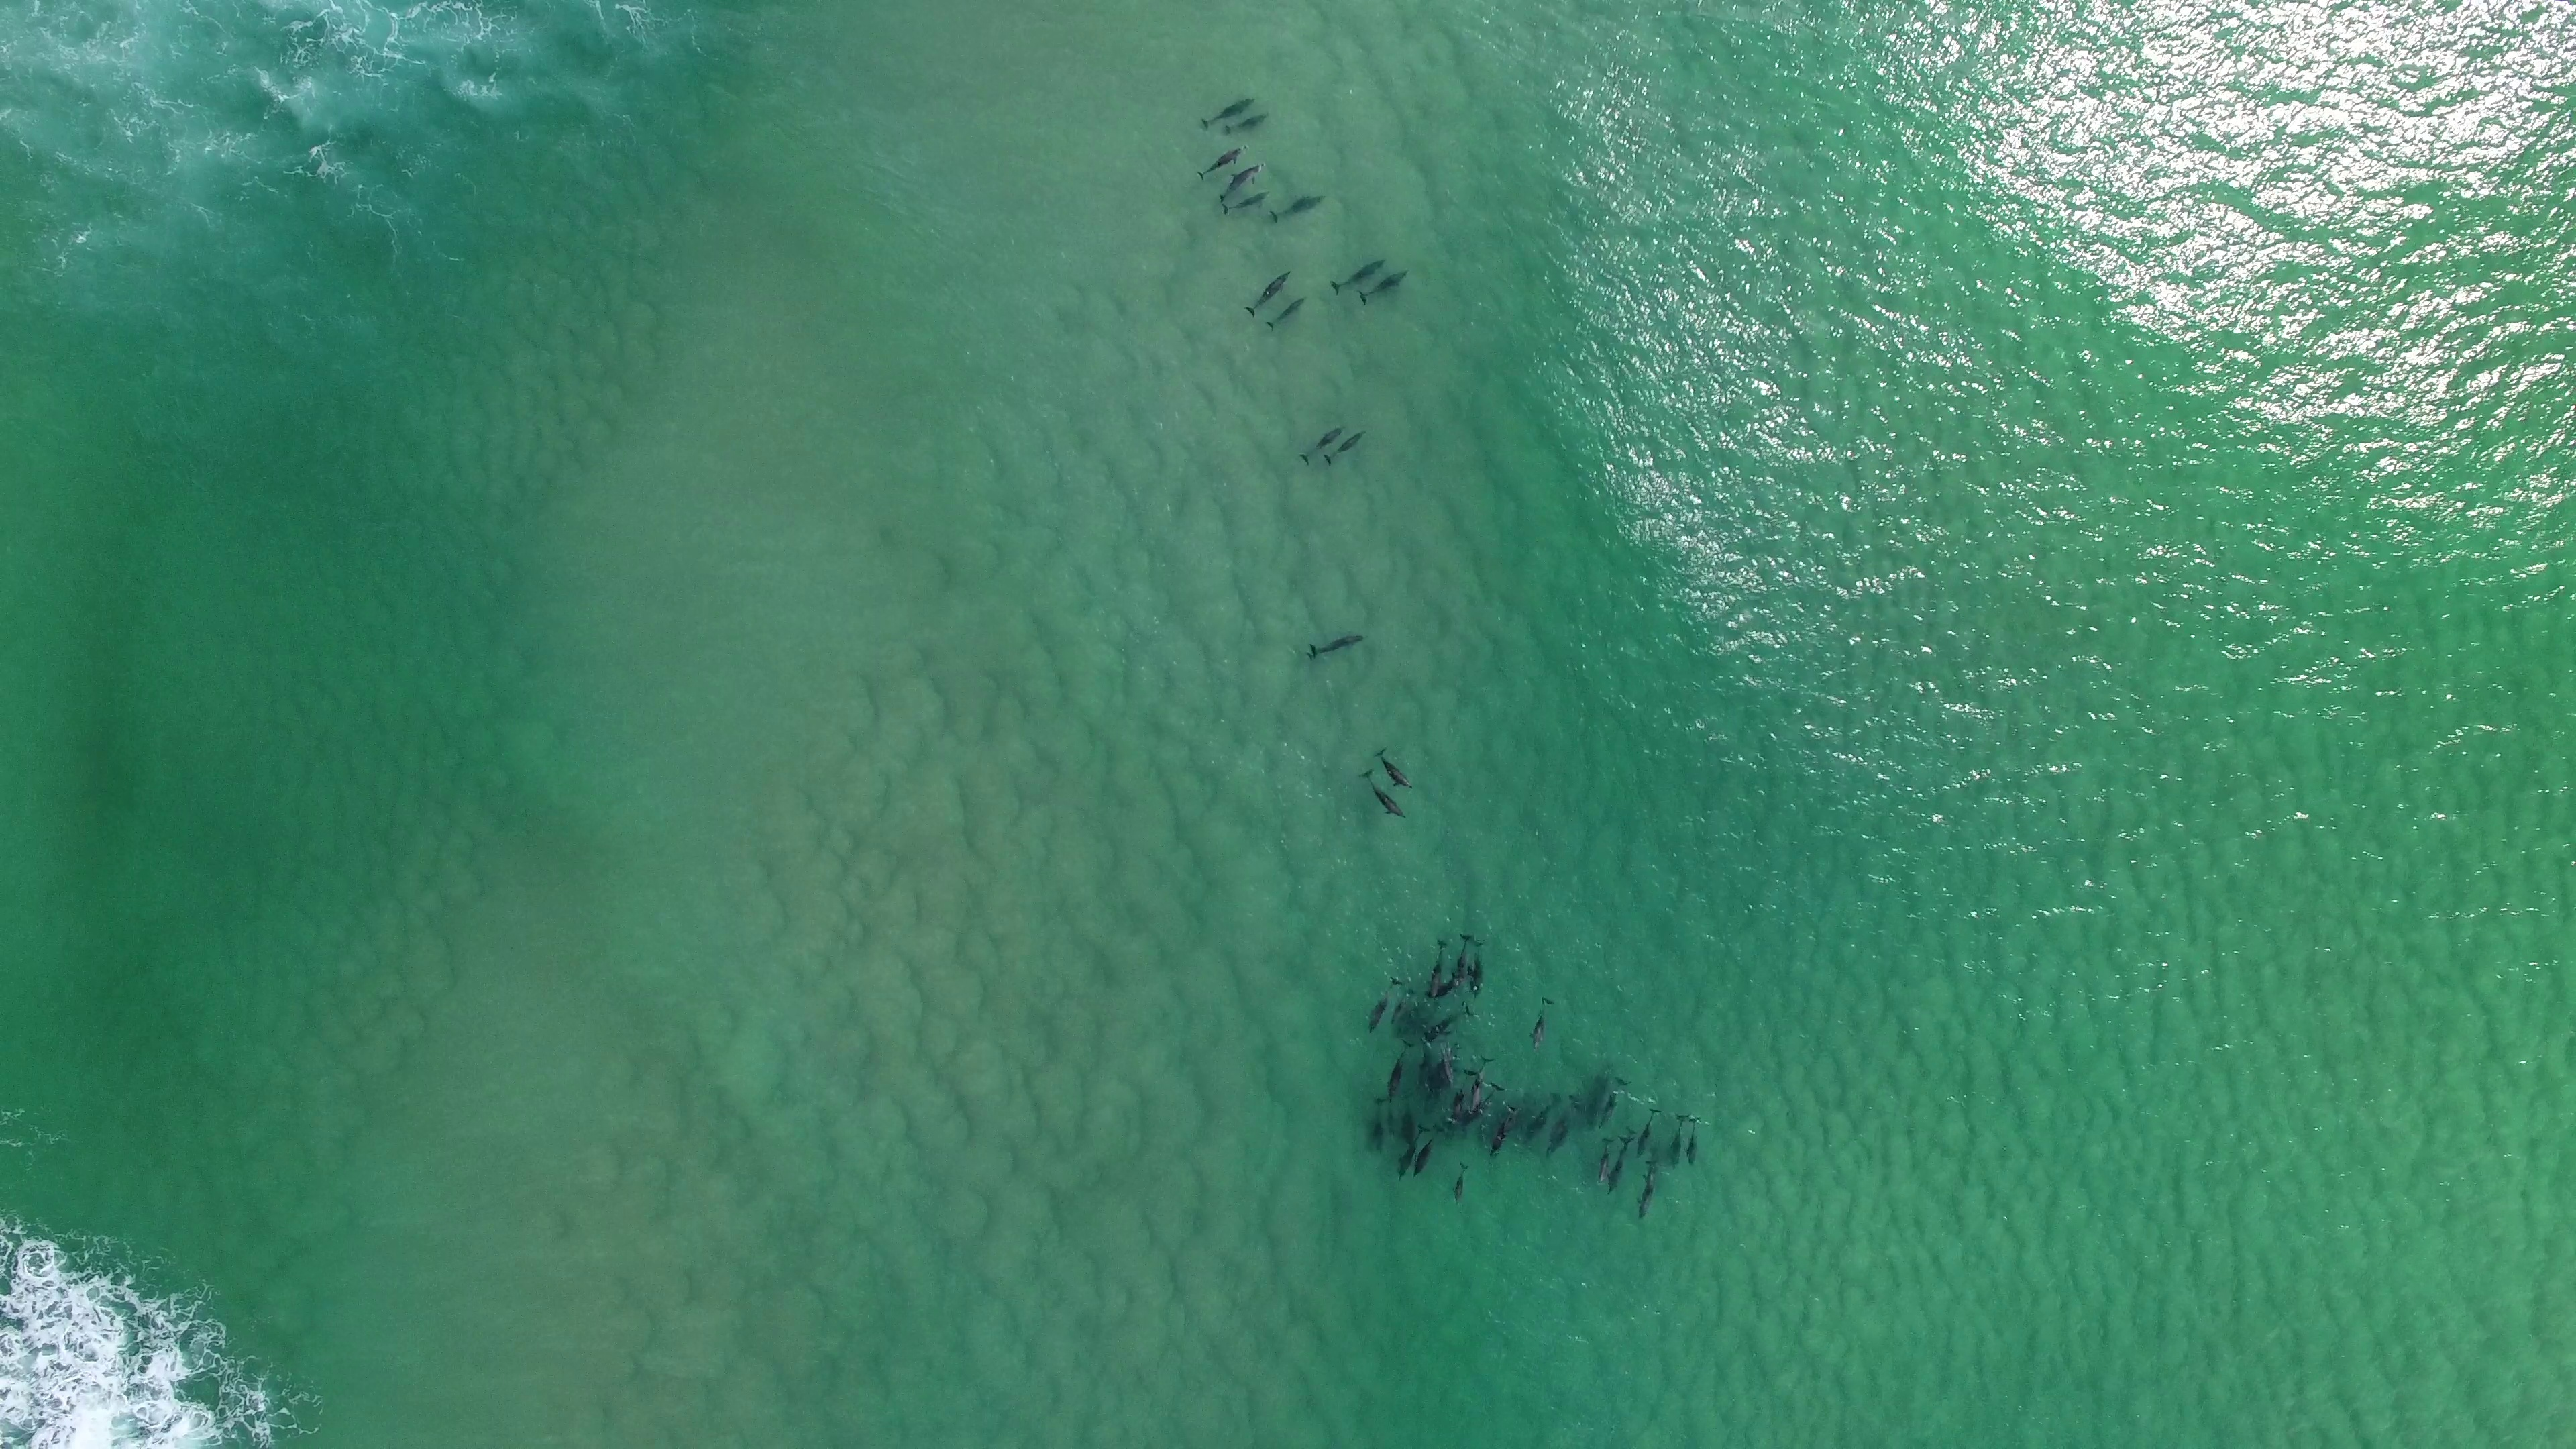dolphin: (1329, 248, 1392, 294), (1242, 267, 1295, 320), (1267, 188, 1330, 226), (1297, 419, 1346, 469), (1546, 1093, 1582, 1161), (1217, 159, 1269, 205), (1361, 770, 1407, 821), (1357, 264, 1412, 306), (1196, 140, 1253, 180), (1366, 973, 1403, 1035), (1322, 423, 1369, 469), (1424, 1000, 1477, 1040), (1394, 1122, 1428, 1185), (1465, 1053, 1497, 1118), (1200, 94, 1258, 129), (1522, 1092, 1557, 1150), (1461, 1081, 1504, 1129), (1304, 632, 1366, 662), (1488, 1102, 1518, 1162), (1385, 1037, 1414, 1100), (1263, 292, 1307, 333), (1375, 748, 1414, 794), (1221, 186, 1274, 219), (1412, 1125, 1445, 1177), (1606, 1134, 1633, 1198), (1599, 1074, 1628, 1127), (1667, 1109, 1691, 1169), (1453, 931, 1474, 998), (1449, 1069, 1476, 1122), (1428, 938, 1449, 1003), (1637, 1159, 1660, 1219), (1529, 994, 1552, 1053), (1637, 1104, 1660, 1159), (1389, 985, 1419, 1026), (1470, 936, 1488, 1005), (1224, 110, 1272, 134), (1415, 1033, 1433, 1097), (1438, 1028, 1458, 1083), (1596, 1132, 1614, 1189), (1369, 1095, 1385, 1154), (1686, 1113, 1702, 1168), (1453, 1161, 1472, 1203)
